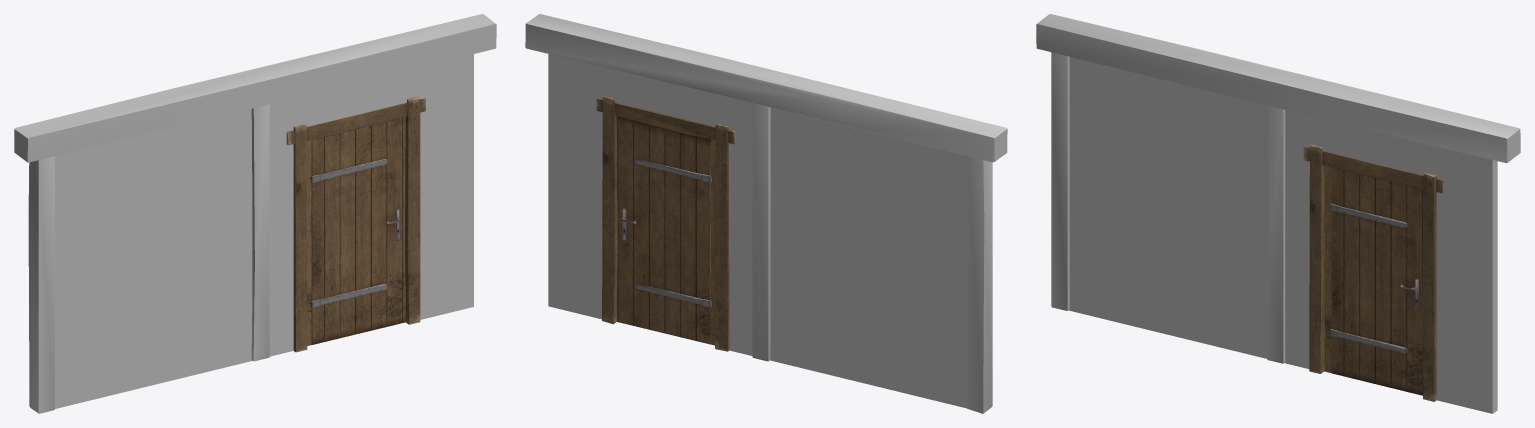
The model's file is SM_WallElement_06_LOD_02.FBX.
The picture shows the model from 3 angles, left to right: view 1: azimuth 30°, elevation 25°; view 2: azimuth 150°, elevation 25°; view 3: azimuth 330°, elevation 25°; orthographic projection.
Parts seen in each view (by area): view 1: SM_WallElement_06_LOD_02, SM_Door_01_LOD_02; view 2: SM_WallElement_06_LOD_02, SM_Door_01_LOD_02; view 3: SM_WallElement_06_LOD_02, SM_Door_01_LOD_02.
Boxes of the visible parts, x1,y1,x2,y2 form: SM_WallElement_06_LOD_02: (14,14,496,413); SM_Door_01_LOD_02: (310,116,405,344); SM_WallElement_06_LOD_02: (525,14,1007,413); SM_Door_01_LOD_02: (616,116,711,344); SM_WallElement_06_LOD_02: (1036,14,1520,413); SM_Door_01_LOD_02: (1330,167,1423,395).
Bounding box in the file's own units: 5.46 × 3.16 × 0.302.
